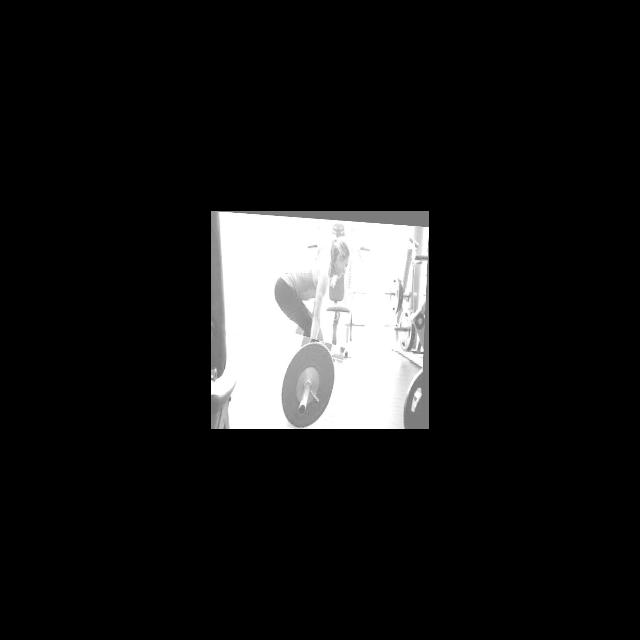barbell: (277, 333, 343, 429)
